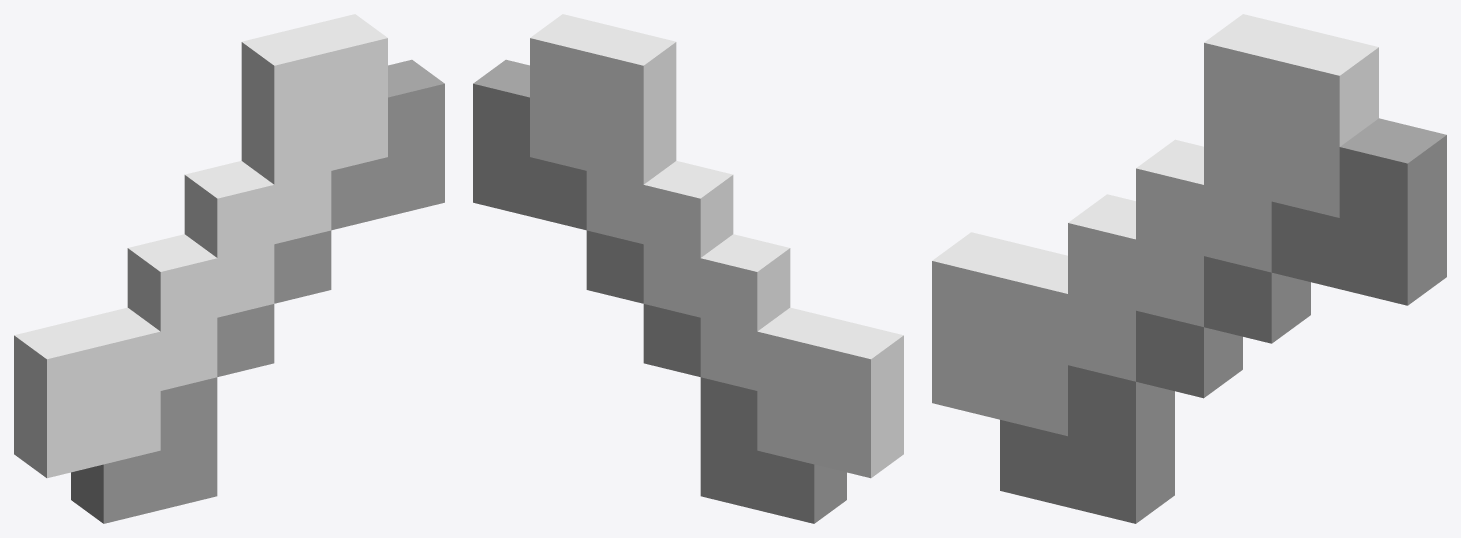
The model's file is pBone.obj.
The picture shows the model from 3 angles, left to right: view 1: azimuth 30°, elevation 25°; view 2: azimuth 150°, elevation 25°; view 3: azimuth 330°, elevation 25°; orthographic projection. The views are drawn at different scales.
Size of the model in its own units: 0.7 by 0.7 by 0.1.
1 material, 1 textured.
